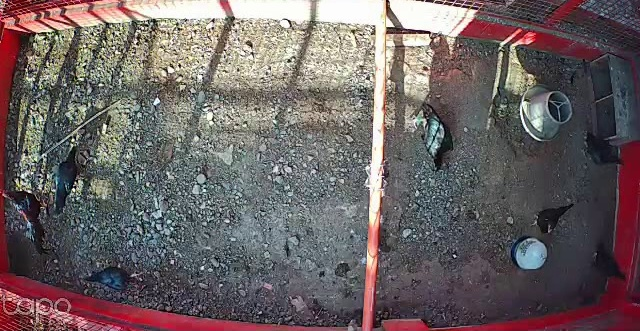Chicken: (409, 100, 457, 179), (52, 144, 90, 217), (527, 201, 576, 236), (582, 129, 625, 167), (82, 266, 147, 291), (590, 244, 628, 281)
Drinker: (511, 235, 547, 272)
Feeder: (521, 84, 573, 142)
Rooster: (0, 184, 63, 255)
